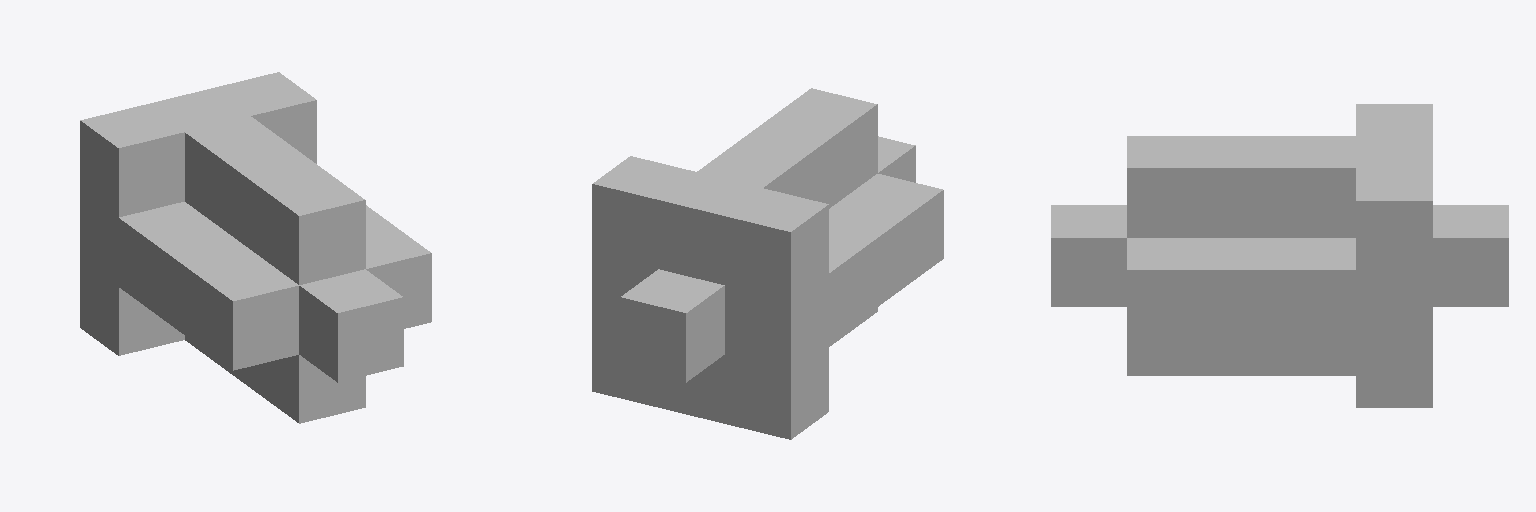
Rendered from gun.obj.
The picture shows the model from 3 angles: view 1: azimuth 30°, elevation 25°; view 2: azimuth 150°, elevation 25°; view 3: azimuth 270°, elevation 25°; orthographic projection.
Parts seen in each view (by area): view 1: object 1; view 2: object 1; view 3: object 1.
Boxes of the visible parts, box(x1,y1,x2,y2) form: object 1: box(80, 72, 431, 423); object 1: box(592, 88, 943, 439); object 1: box(1051, 104, 1508, 407).
Size of the model in its own units: 0.3 by 0.3 by 0.6.